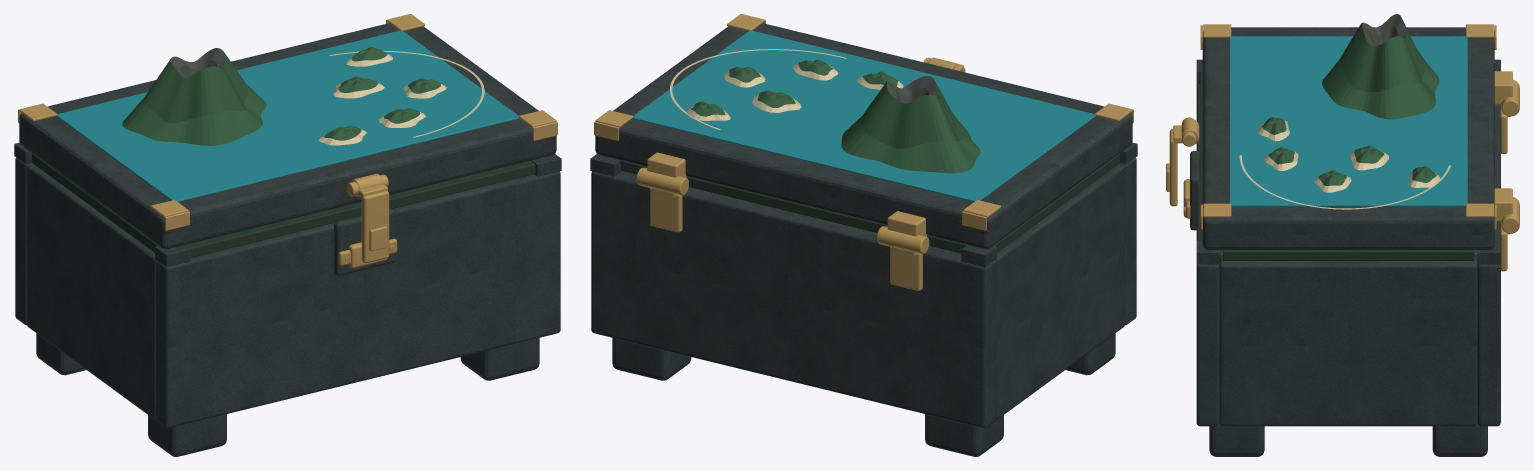
Rendered from saint-vincent-and-the-grenadines.glb.
3 views of the same model, side by side, from view 1: azimuth 30°, elevation 25°; view 2: azimuth 150°, elevation 25°; view 3: azimuth 270°, elevation 25° (orthographic).
Visible parts, largest first — view 1: Body / volcanic long, Sea / inset, Lid / polished slab, Body / volcanic end, Soufriere / crater massif, Mineral seam / long, Foot / volcanic, Foot / volcanic.002, Body / volcanic long.001, Latch / lifting hasp, Body / clasp seat, Mineral seam / end (+7 smaller); view 2: Body / volcanic long.001, Sea / inset, Lid / polished slab, Body / volcanic end, Soufriere / crater massif, Mineral seam / long.001, Foot / volcanic.001, Foot / volcanic.003, Body / volcanic long, Mineral seam / end, Hinge / fixed mount.001, Hinge / fixed mount (+10 smaller); view 3: Body / volcanic end.001, Sea / inset, Lid / polished slab, Soufriere / crater massif, Body / volcanic long.001, Body / volcanic long, Mineral seam / end.001, Foot / volcanic.002, Foot / volcanic.003, Cay / 4, Body / clasp seat, Latch / lifting hasp (+16 smaller).
Part boxes in pixels (x1,y1,x2,y2): Body / volcanic long: (156,171,560,428); Sea / inset: (56,30,519,201); Lid / polished slab: (19,23,556,249); Body / volcanic end: (27,164,156,419); Soufriere / crater massif: (122,48,266,145); Mineral seam / long: (185,160,535,257); Foot / volcanic: (148,414,226,456); Foot / volcanic.002: (460,338,539,380); Body / volcanic long.001: (15,157,32,325); Latch / lifting hasp: (361,191,389,263); Body / clasp seat: (334,208,395,275); Mineral seam / end: (32,153,158,252); Body / volcanic long.001: (591,171,995,428); Sea / inset: (632,30,1095,201); Lid / polished slab: (595,23,1132,249); Body / volcanic end: (995,164,1124,419); Soufriere / crater massif: (841,76,980,173); Mineral seam / long.001: (621,160,966,253); Foot / volcanic.001: (925,414,1003,456); Foot / volcanic.003: (612,338,691,380); Body / volcanic long: (1119,157,1136,325); Mineral seam / end: (993,153,1119,252); Hinge / fixed mount.001: (650,188,682,232); Hinge / fixed mount: (890,246,922,290); Body / volcanic end.001: (1219,257,1477,426); Sea / inset: (1229,36,1467,206); Lid / polished slab: (1202,27,1494,249); Soufriere / crater massif: (1322,14,1439,119); Body / volcanic long.001: (1477,104,1500,426); Body / volcanic long: (1196,84,1219,426); Mineral seam / end.001: (1223,250,1474,260); Foot / volcanic.002: (1209,423,1264,456); Foot / volcanic.003: (1432,423,1487,456); Cay / 4: (1350,145,1388,170); Body / clasp seat: (1190,151,1199,230); Latch / lifting hasp: (1169,129,1177,206).
Bounding box in the file's own units: 3.72 × 2.79 × 2.88.
7 materials, 1 textured.
